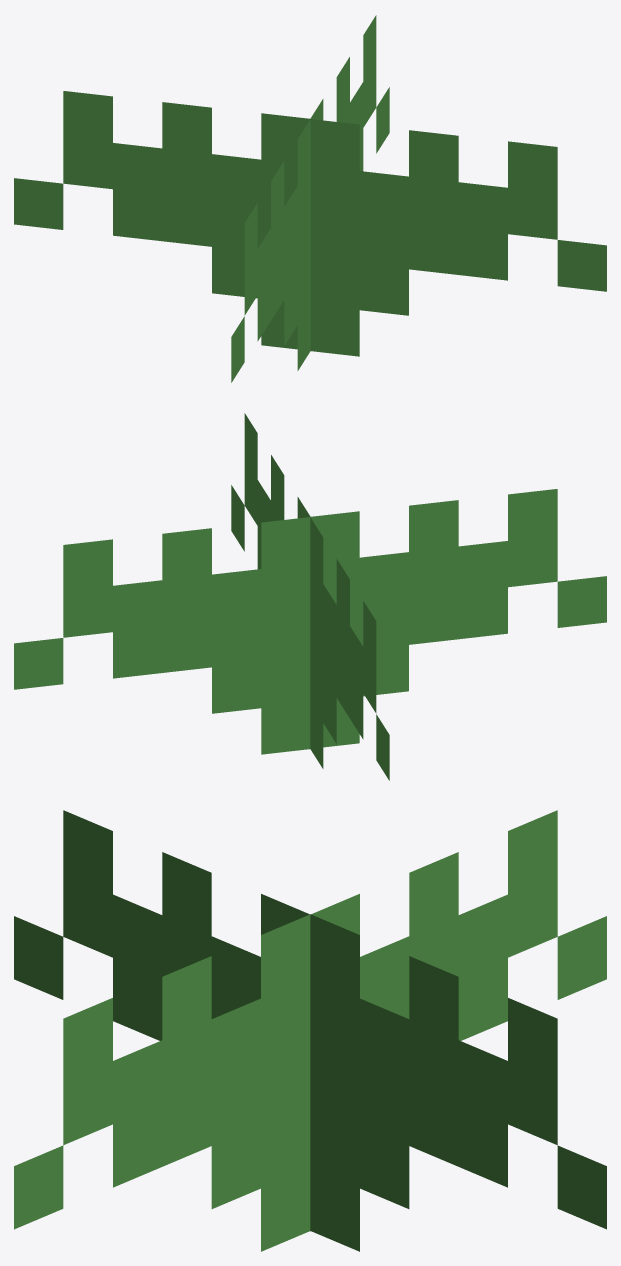
The model's file is tobacco_stage1.obj.
3 views of the same model, one above another, from view 1: azimuth 30°, elevation 25°; view 2: azimuth 150°, elevation 25°; view 3: azimuth 270°, elevation 25° (orthographic). The views are drawn at different scales.
Parts seen in each view (by area): view 1: cube; view 2: cube; view 3: cube.
Part boxes in pixels (x1,y1,x2,y2): cube: (14,15,606,382); cube: (14,413,606,780); cube: (14,810,606,1251).
Bounding box in the file's own units: 0.5294 × 0.3125 × 0.5302.
